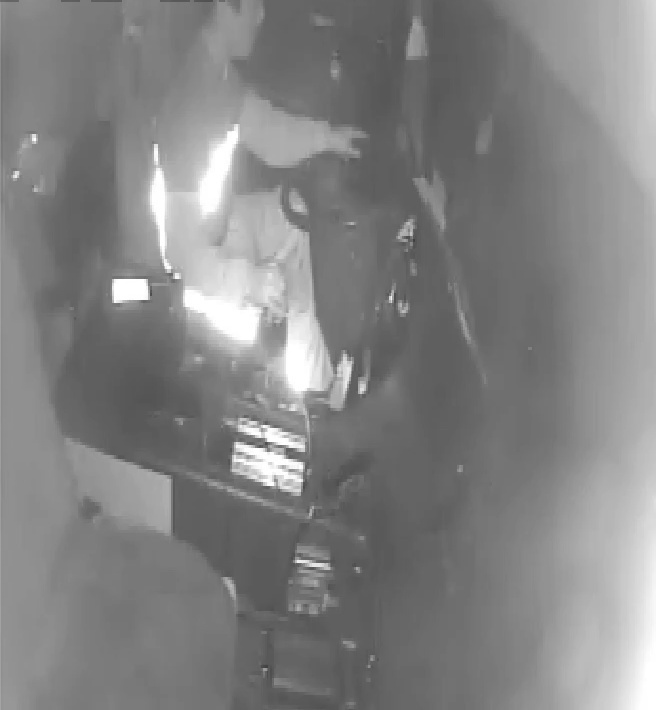cellphone: (103, 273, 158, 307)
